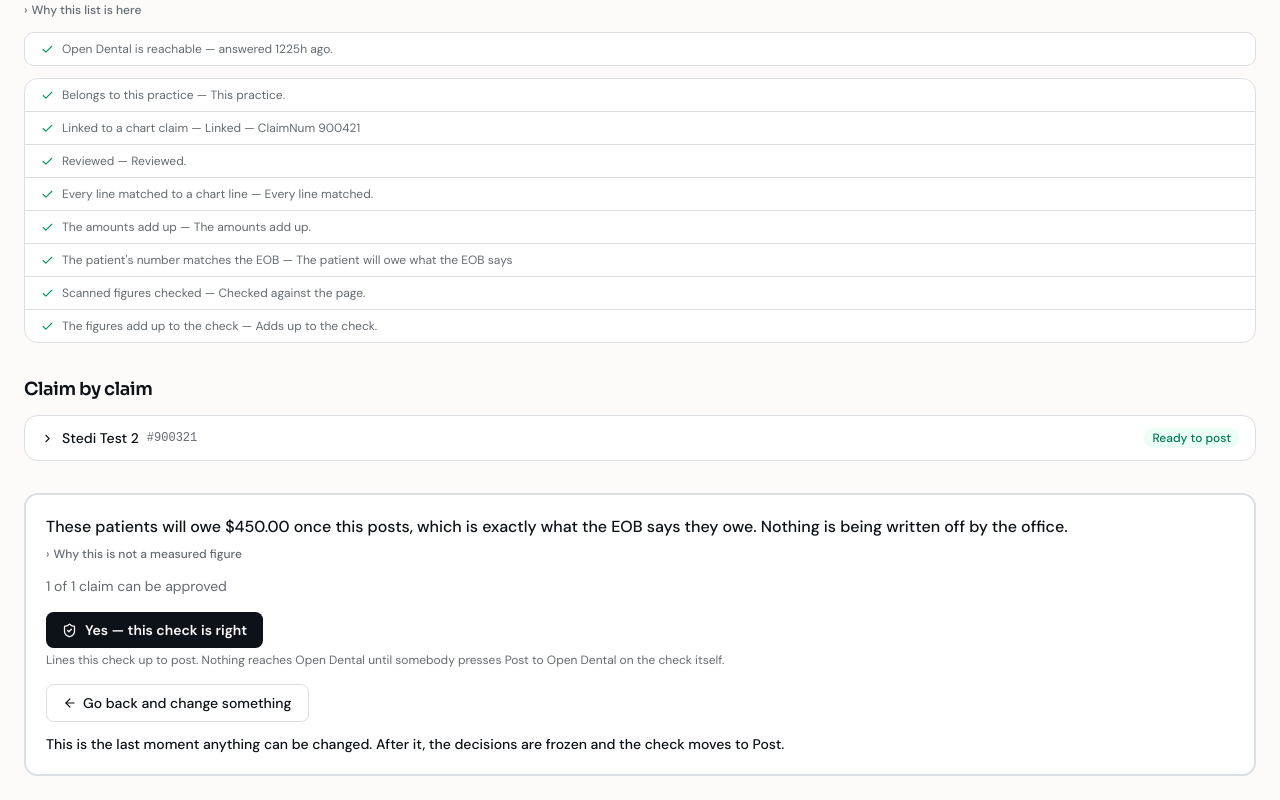
Test: 4 · shadow › 4.3 approving the check
(page scrolled)
Click the button with test id "approve-button" at (155, 630), box [46, 612, 263, 648]
(page scrolled)
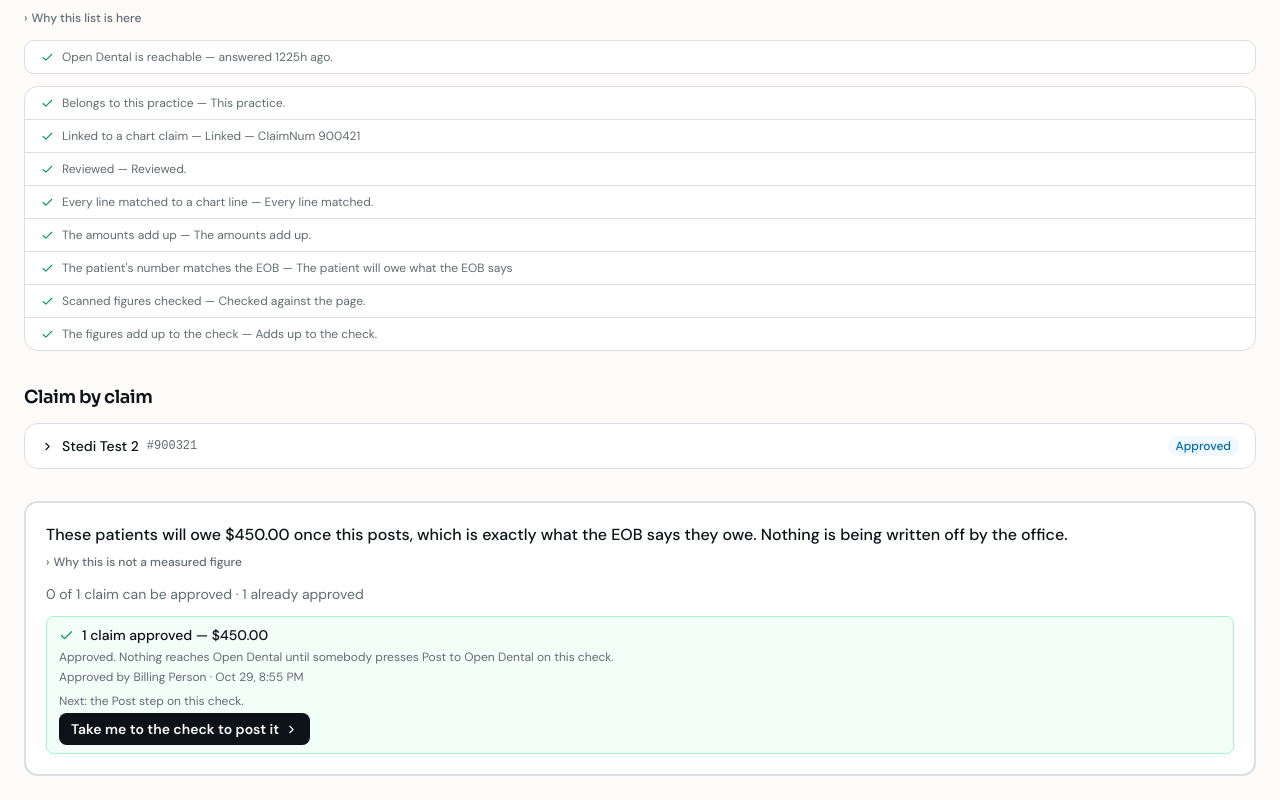
Expected: the element with test id "approve-result" is shown, [46, 616, 1234, 754]
